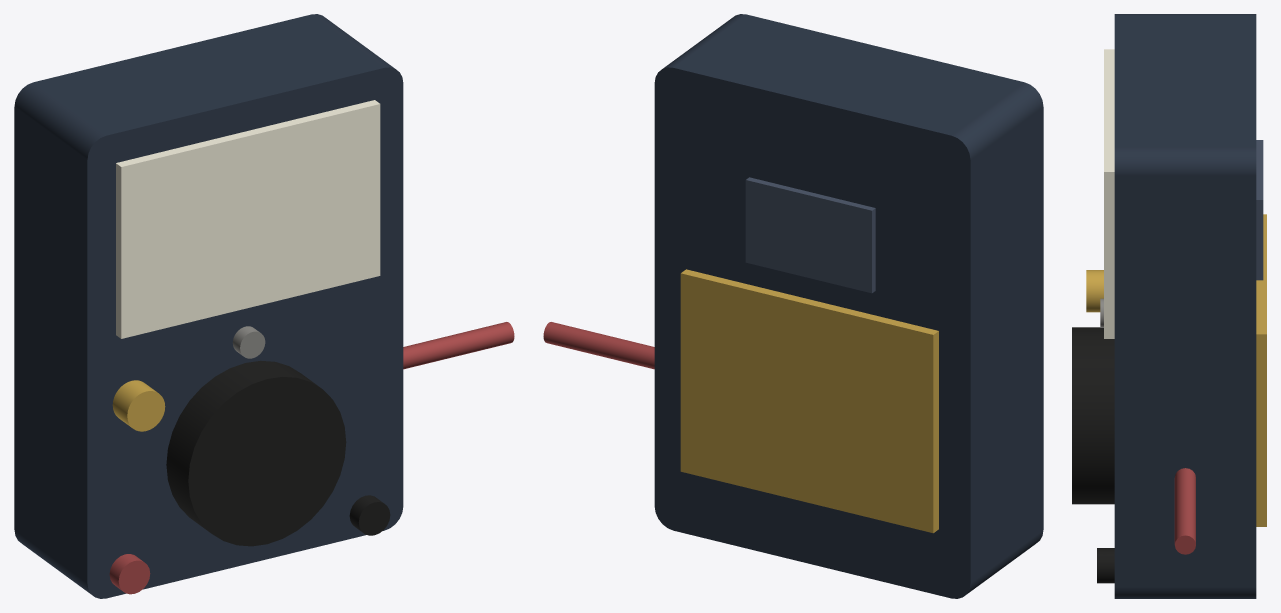
The model's file is analog_multimeter.glb.
The picture shows the model from 3 angles, left to right: view 1: azimuth 30°, elevation 25°; view 2: azimuth 150°, elevation 25°; view 3: azimuth 270°, elevation 25°; orthographic projection. The views are drawn at different scales.
Parts seen in each view (by area): view 1: body, meter_scale, range_selector, test_probes, ohm_adjust, common_jack, positive_jack, mechanical_zero; view 2: body, tilt_stand_cover, battery_fuse_cover, test_probes; view 3: body, range_selector, meter_scale, tilt_stand_cover, test_probes, battery_fuse_cover, ohm_adjust, common_jack.
Boxes of the visible parts, <box> form: body: <box>14,14,403,598</box>; meter_scale: <box>116,100,380,338</box>; range_selector: <box>166,360,346,546</box>; test_probes: <box>403,322,514,369</box>; ohm_adjust: <box>112,380,165,431</box>; common_jack: <box>349,495,390,535</box>; positive_jack: <box>109,554,150,594</box>; mechanical_zero: <box>232,326,265,358</box>; body: <box>654,14,1043,598</box>; tilt_stand_cover: <box>680,269,938,533</box>; battery_fuse_cover: <box>745,177,875,293</box>; test_probes: <box>543,322,654,369</box>; body: <box>1114,14,1256,598</box>; range_selector: <box>1072,327,1114,504</box>; meter_scale: <box>1104,49,1114,338</box>; tilt_stand_cover: <box>1256,214,1266,526</box>; test_probes: <box>1174,468,1195,554</box>; battery_fuse_cover: <box>1256,140,1263,280</box>; ohm_adjust: <box>1086,270,1103,312</box>; common_jack: <box>1097,548,1114,583</box>.
Bounding box in the file's own units: 0.145 × 0.14 × 0.055.
